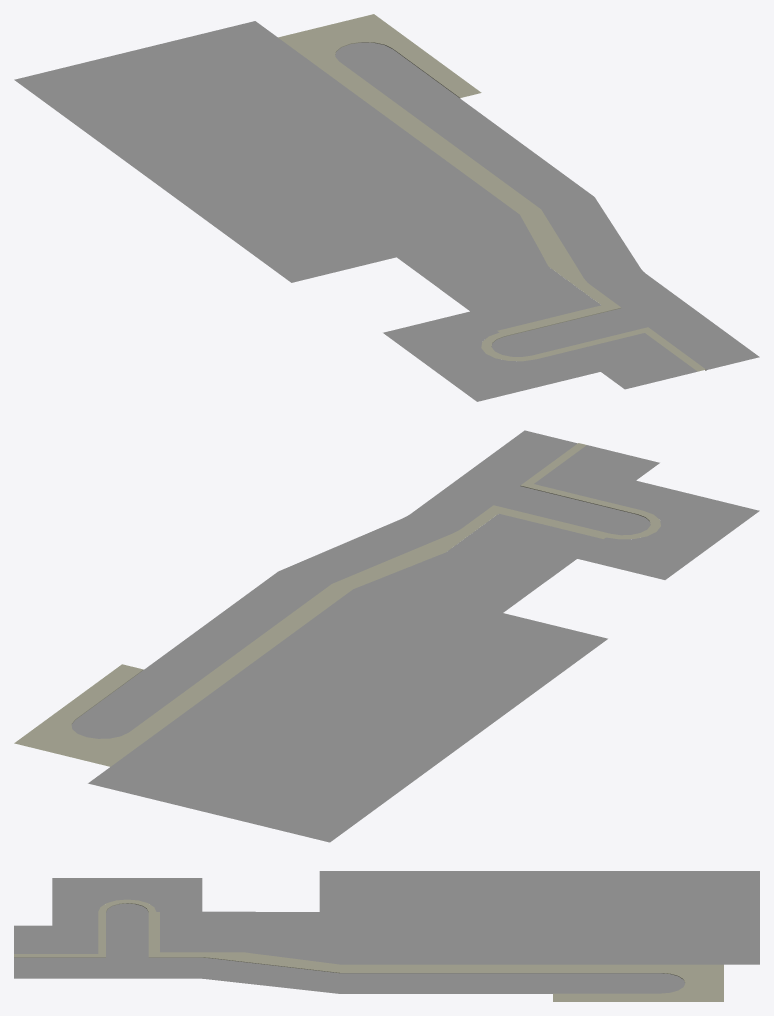
Rendered from S_Floor.dae.
3 views of the same model, one above another, from view 1: azimuth 30°, elevation 25°; view 2: azimuth 150°, elevation 25°; view 3: azimuth 270°, elevation 25° (orthographic). The views are drawn at different scales.
Visible parts, largest first — view 1: Plane.022, Plane, Plane.026, Plane.049, Plane.004; view 2: Plane.022, Plane, Plane.026, Plane.049, Plane.004; view 3: Plane.022, Plane, Plane.026, Plane.049, Plane.004.
Boxes of the visible parts, x1,y1,x2,y2 form: Plane.022: (14,21,600,315); Plane: (335,42,759,369); Plane.026: (278,14,706,371); Plane.049: (383,294,634,401); Plane.004: (577,333,697,389); Plane.022: (88,513,607,842); Plane: (71,430,650,738); Plane.026: (14,443,660,766); Plane.049: (506,472,759,579); Plane.004: (534,445,659,500); Plane.022: (160,871,759,964); Plane: (14,903,685,993); Plane.026: (14,899,723,1001); Plane.049: (52,878,202,938); Plane.004: (14,925,98,953).
Size of the model in its own units: 161 by 389 by 0.6548.
